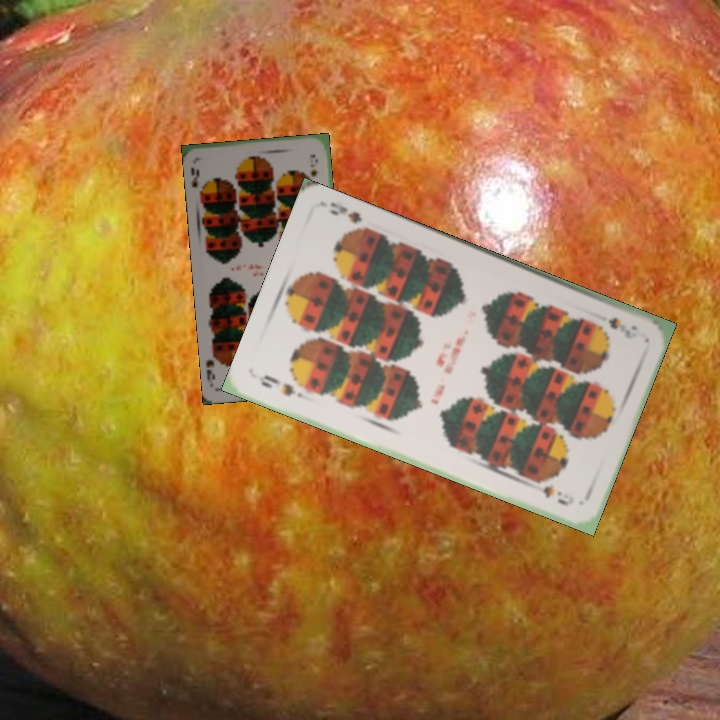S9: (256, 370, 298, 399), (604, 313, 640, 342), (187, 163, 208, 199)
